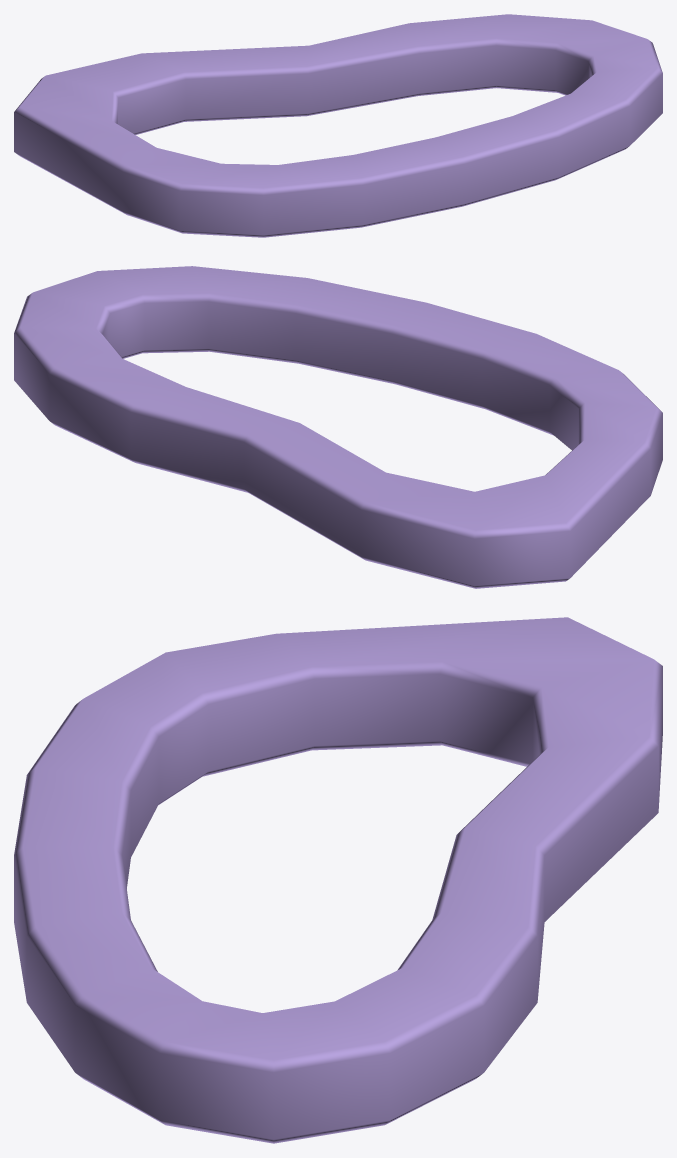
File: Squid_3_Ring_3.fbx
The picture shows the model from 3 angles, top to bottom: view 1: azimuth 30°, elevation 25°; view 2: azimuth 150°, elevation 25°; view 3: azimuth 270°, elevation 25°; orthographic projection. The views are drawn at different scales.
Visible parts, largest first — view 1: Squid_3_Ring_3; view 2: Squid_3_Ring_3; view 3: Squid_3_Ring_3.
Boxes of the visible parts, <box> form: Squid_3_Ring_3: <box>14,14,662,237</box>; Squid_3_Ring_3: <box>14,266,662,588</box>; Squid_3_Ring_3: <box>14,617,662,1143</box>.
Size of the model in its own units: 11.96 by 1.03 by 7.27.
